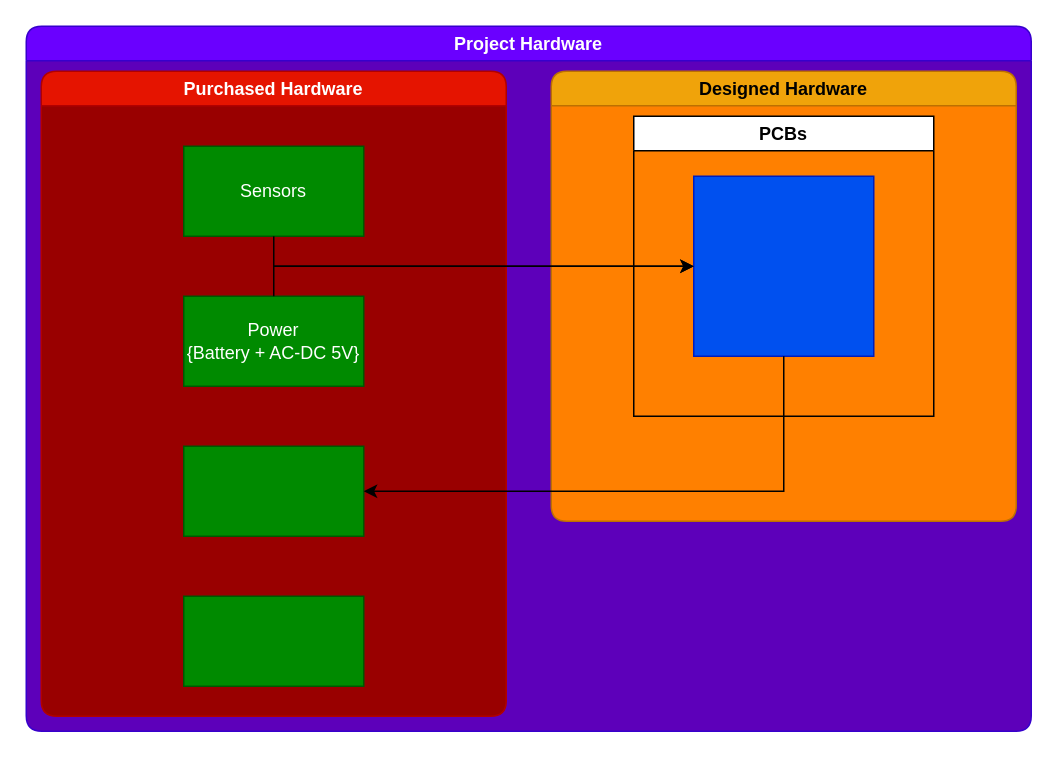
Some shapes in this 1058 by 758 pixel diagram are drawn without their labels. Here are the shapes that lost their labels. From the top down, the centre of each, then its label:
the point at 783,265: AC-DC, Solenoid Controllers, and Photoelectric mountings
the point at 273,490: Processing {Arduino Mega R3 and Adafruit 881}
the point at 273,640: Framing {aluminum and Barrel}
